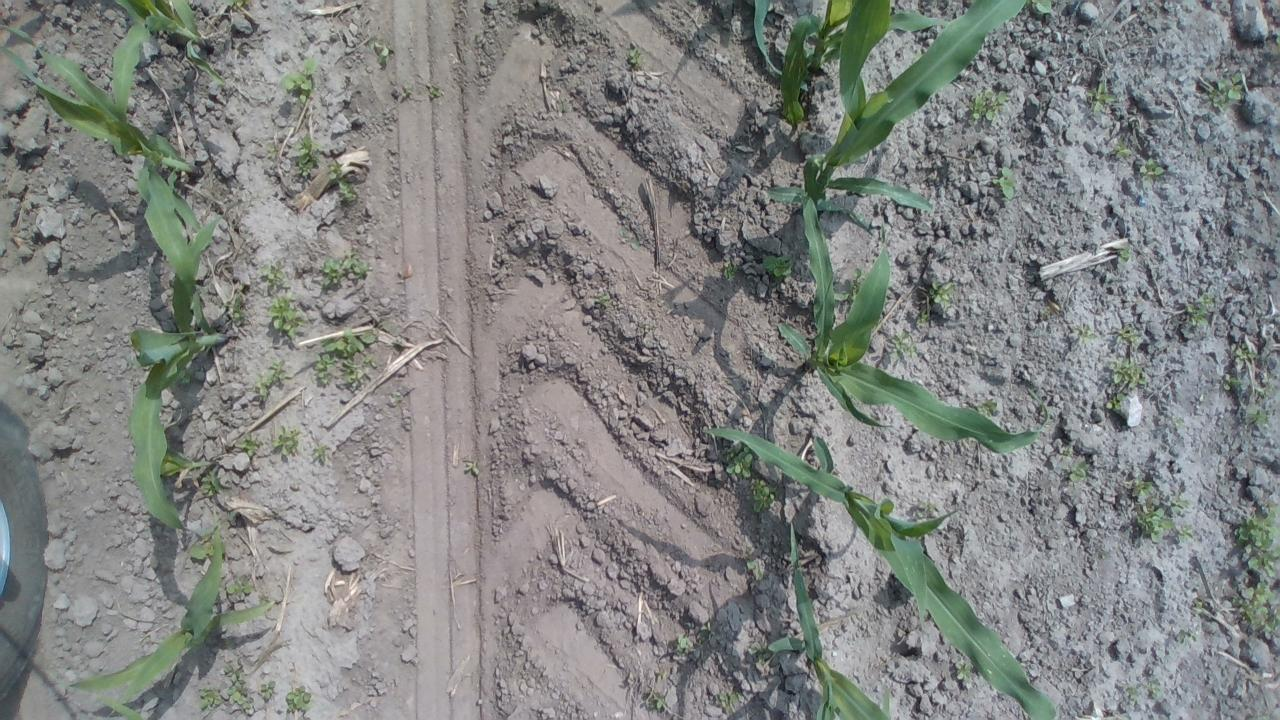Maize: (700, 422, 1062, 720), (773, 192, 1052, 452), (0, 17, 198, 300), (768, 0, 1032, 209), (64, 503, 278, 710), (124, 209, 231, 532), (767, 516, 904, 720), (774, 0, 948, 127), (107, 0, 229, 85)
Weeds: (1232, 505, 1280, 634), (314, 324, 381, 390), (278, 54, 322, 102), (321, 250, 373, 288), (966, 86, 1012, 127), (222, 662, 258, 714), (253, 358, 290, 402), (324, 160, 361, 203), (1132, 504, 1172, 543), (1084, 75, 1123, 112), (1060, 441, 1092, 486), (1108, 358, 1152, 390), (1206, 74, 1246, 109), (722, 440, 756, 480), (296, 135, 325, 181), (269, 298, 302, 338), (190, 532, 232, 563), (987, 166, 1022, 202), (748, 478, 778, 513), (927, 278, 958, 310), (762, 250, 795, 280), (884, 332, 916, 362), (951, 654, 980, 686), (972, 393, 1002, 422), (272, 424, 300, 455), (285, 686, 313, 716), (621, 46, 650, 74), (1067, 318, 1096, 346), (1115, 323, 1147, 348), (200, 470, 227, 499), (714, 686, 746, 710), (1129, 474, 1157, 501), (370, 36, 392, 70), (640, 690, 671, 714), (198, 685, 225, 712), (671, 631, 698, 658), (422, 79, 448, 107), (1242, 403, 1271, 428), (743, 552, 767, 582), (264, 262, 289, 290), (227, 574, 256, 598), (236, 432, 262, 458), (1169, 518, 1196, 543), (1189, 296, 1212, 324), (1138, 158, 1166, 180), (720, 262, 740, 292), (264, 138, 287, 164), (588, 289, 616, 310), (1232, 344, 1256, 368), (1118, 681, 1144, 703), (232, 290, 249, 322), (1146, 676, 1167, 701), (1219, 373, 1249, 390), (1176, 628, 1200, 649), (310, 442, 331, 465), (1104, 390, 1128, 410), (394, 79, 416, 100), (1111, 140, 1132, 161), (1032, 0, 1056, 18), (461, 458, 483, 477), (260, 680, 278, 702), (1116, 246, 1131, 272), (1169, 494, 1188, 513), (385, 389, 406, 403), (1194, 602, 1210, 619)
